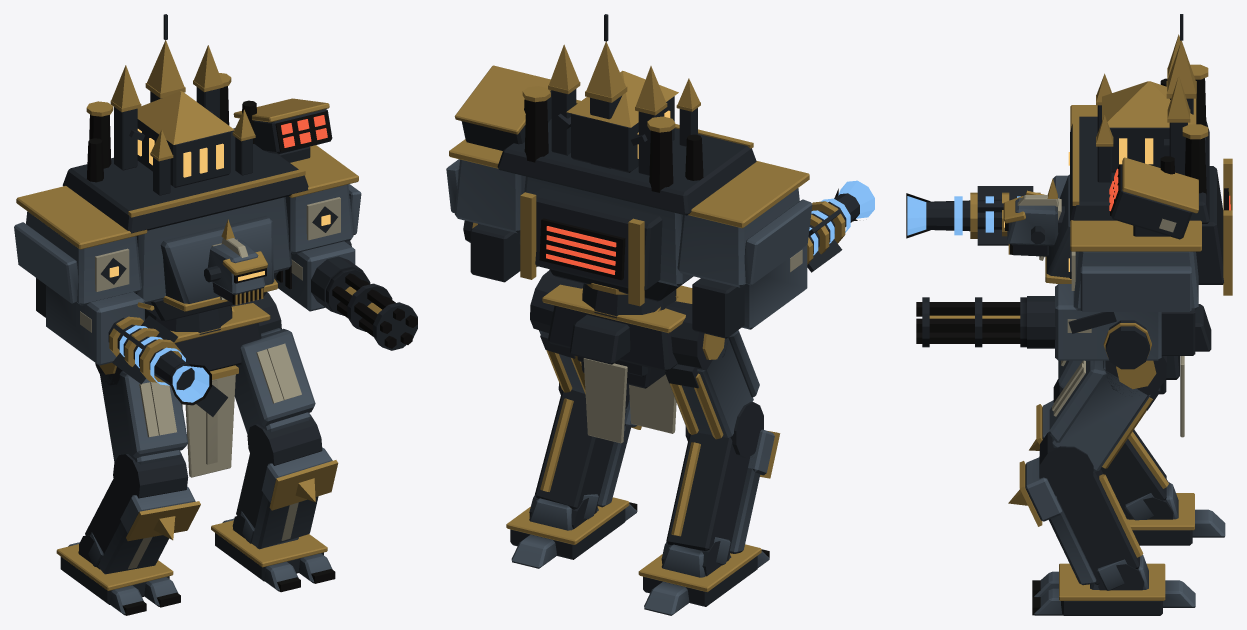
The model's file is hierarch.glb.
3 renders of one model, left to right at view 1: azimuth 30°, elevation 25°; view 2: azimuth 150°, elevation 25°; view 3: azimuth 270°, elevation 25°, orthographic. The views are drawn at different scales.
Parts seen in each view (by area): view 1: torso, thigh_L, thigh_R, arm_R, pelvis, shin_R, shin_L, foot_L, barrels_L, foot_R, missile_pod, head (+2 smaller); view 2: torso, pelvis, shin_R, thigh_R, arm_R, shin_L, foot_R, foot_L, missile_pod, thigh_L, arm_L, blaster_glow; view 3: torso, thigh_L, shin_L, arm_L, foot_L, missile_pod, barrels_L, shin_R, arm_R, head, foot_R, pelvis (+2 smaller).
Boxes of the visible parts, x1,y1,x2,y2 form: torso: (14, 14, 361, 334); thigh_L: (232, 292, 322, 475); thigh_R: (95, 362, 188, 505); arm_R: (36, 278, 211, 405); pelvis: (170, 303, 270, 477); shin_R: (78, 479, 200, 574); shin_L: (232, 447, 338, 549); foot_L: (211, 518, 335, 592); barrels_L: (326, 268, 417, 350); foot_R: (56, 542, 180, 615); missile_pod: (233, 98, 332, 162); head: (204, 219, 267, 305); torso: (446, 14, 812, 318); pelvis: (542, 284, 692, 443); shin_R: (661, 429, 780, 576); thigh_R: (665, 301, 763, 458); arm_R: (692, 188, 859, 338); shin_L: (529, 390, 641, 529); foot_R: (638, 544, 769, 615); foot_L: (506, 497, 637, 568); missile_pod: (454, 65, 551, 150); thigh_L: (530, 270, 629, 409); arm_L: (463, 220, 537, 282); blaster_glow: (809, 180, 874, 255); torso: (1039, 14, 1232, 311); thigh_L: (1039, 356, 1166, 497); shin_L: (1008, 457, 1144, 590); arm_L: (1027, 284, 1195, 369); foot_L: (1032, 554, 1195, 615); missile_pod: (1109, 157, 1198, 239); barrels_L: (916, 297, 1026, 347); shin_R: (1029, 400, 1173, 520); arm_R: (906, 175, 1067, 245); head: (1003, 178, 1064, 256); foot_R: (1127, 482, 1225, 545); pelvis: (1159, 304, 1211, 437).
Bounding box in the file's own units: 38.38 × 65.7 × 35.2.
